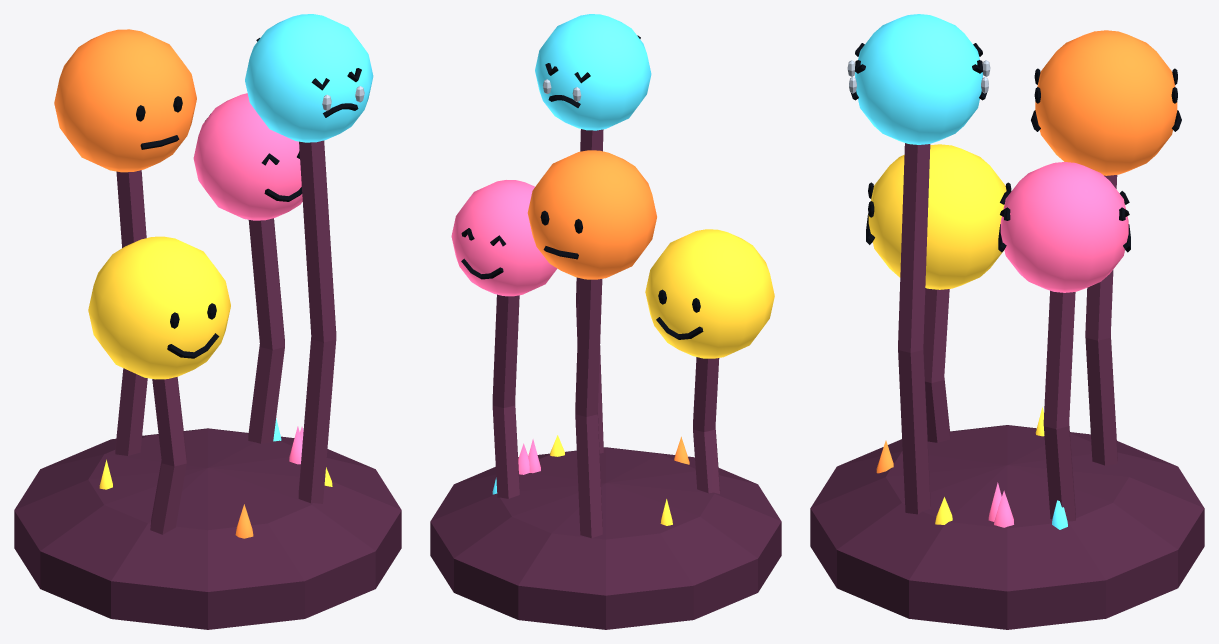
Rendered from EmojiCoral_1.fbx.
3 renders of one model, left to right at view 1: azimuth 30°, elevation 25°; view 2: azimuth 150°, elevation 25°; view 3: azimuth 270°, elevation 25°, orthographic. The views are drawn at different scales.
Parts seen in each view (by area): view 1: KIT_EmojiCoral_1_Mesh; view 2: KIT_EmojiCoral_1_Mesh; view 3: KIT_EmojiCoral_1_Mesh.
Part boxes in pixels (x1,y1,x2,y2): KIT_EmojiCoral_1_Mesh: (14, 14, 401, 629); KIT_EmojiCoral_1_Mesh: (430, 14, 781, 629); KIT_EmojiCoral_1_Mesh: (810, 14, 1204, 629).
Size of the model in its own units: 3.79 by 6.34 by 3.79.
